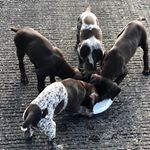puppy: (16, 76, 98, 150), (9, 24, 82, 91), (99, 18, 149, 84), (73, 4, 106, 72)
